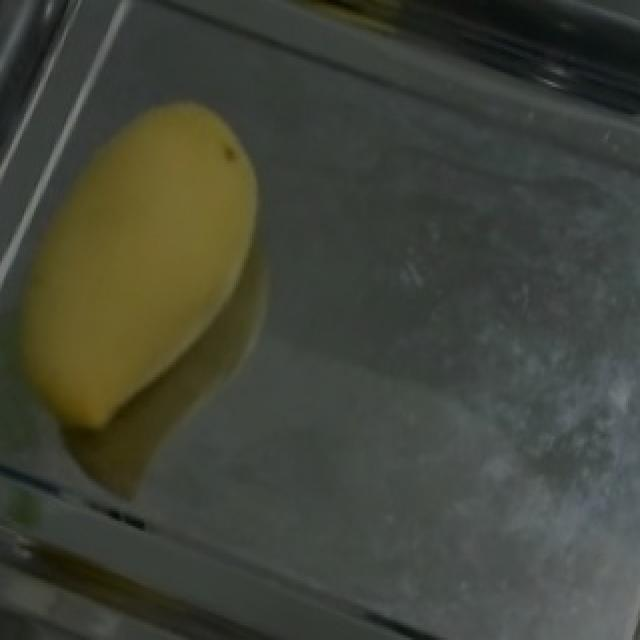fruit: (0, 50, 346, 439)
